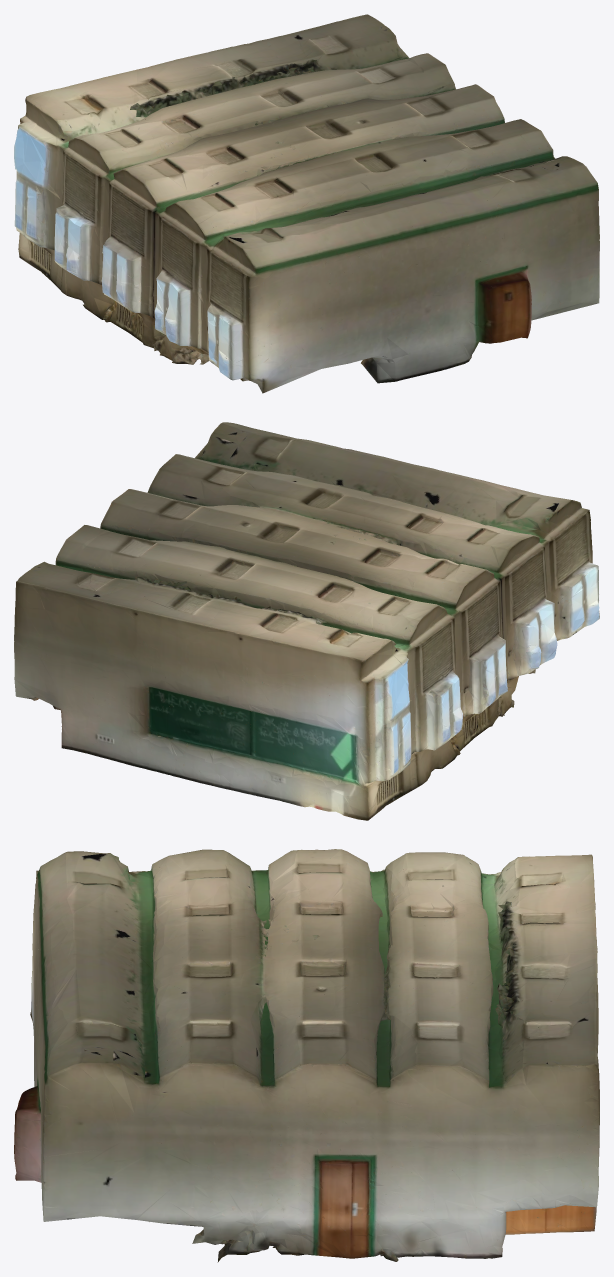
File: room.glb
3 views of the same model, one above another, from view 1: azimuth 30°, elevation 25°; view 2: azimuth 150°, elevation 25°; view 3: azimuth 270°, elevation 25° (orthographic). The views are drawn at different scales.
Visible parts, largest first — view 1: decimated_mesh; view 2: decimated_mesh; view 3: decimated_mesh.
Boxes of the visible parts, bbox=[...] form: decimated_mesh: bbox=[14, 14, 599, 393]; decimated_mesh: bbox=[14, 422, 599, 820]; decimated_mesh: bbox=[14, 849, 599, 1262].
Bounding box in the file's own units: 11.45 × 5.01 × 12.33.
1 material, 1 textured.
